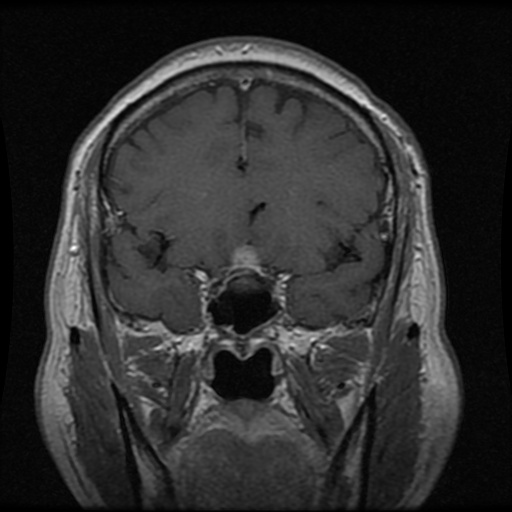pituitary: (231, 247, 258, 293)
